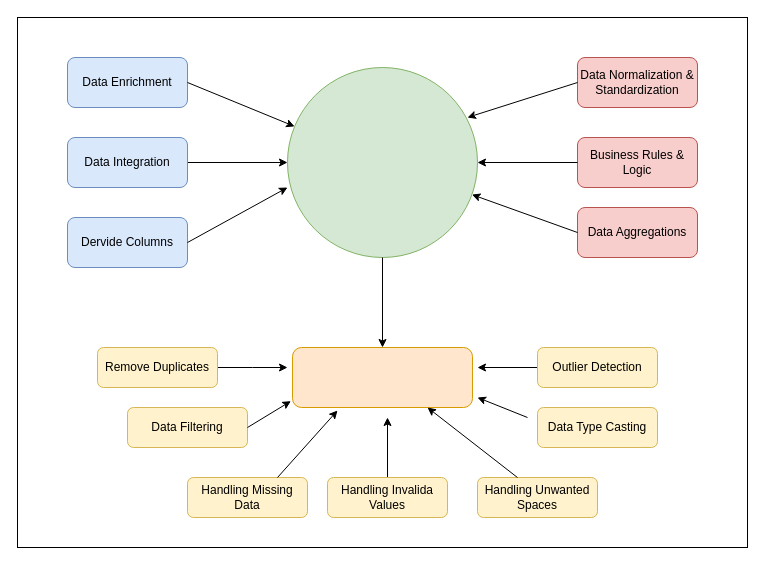
Image size: 765x565. Some labels were removed from this diagram. The box of each missing label's shape, as (x1, y1, x2, y2) in pixels:
Data Cleansing: (292, 346, 472, 408)
Transformation: (286, 66, 478, 258)
